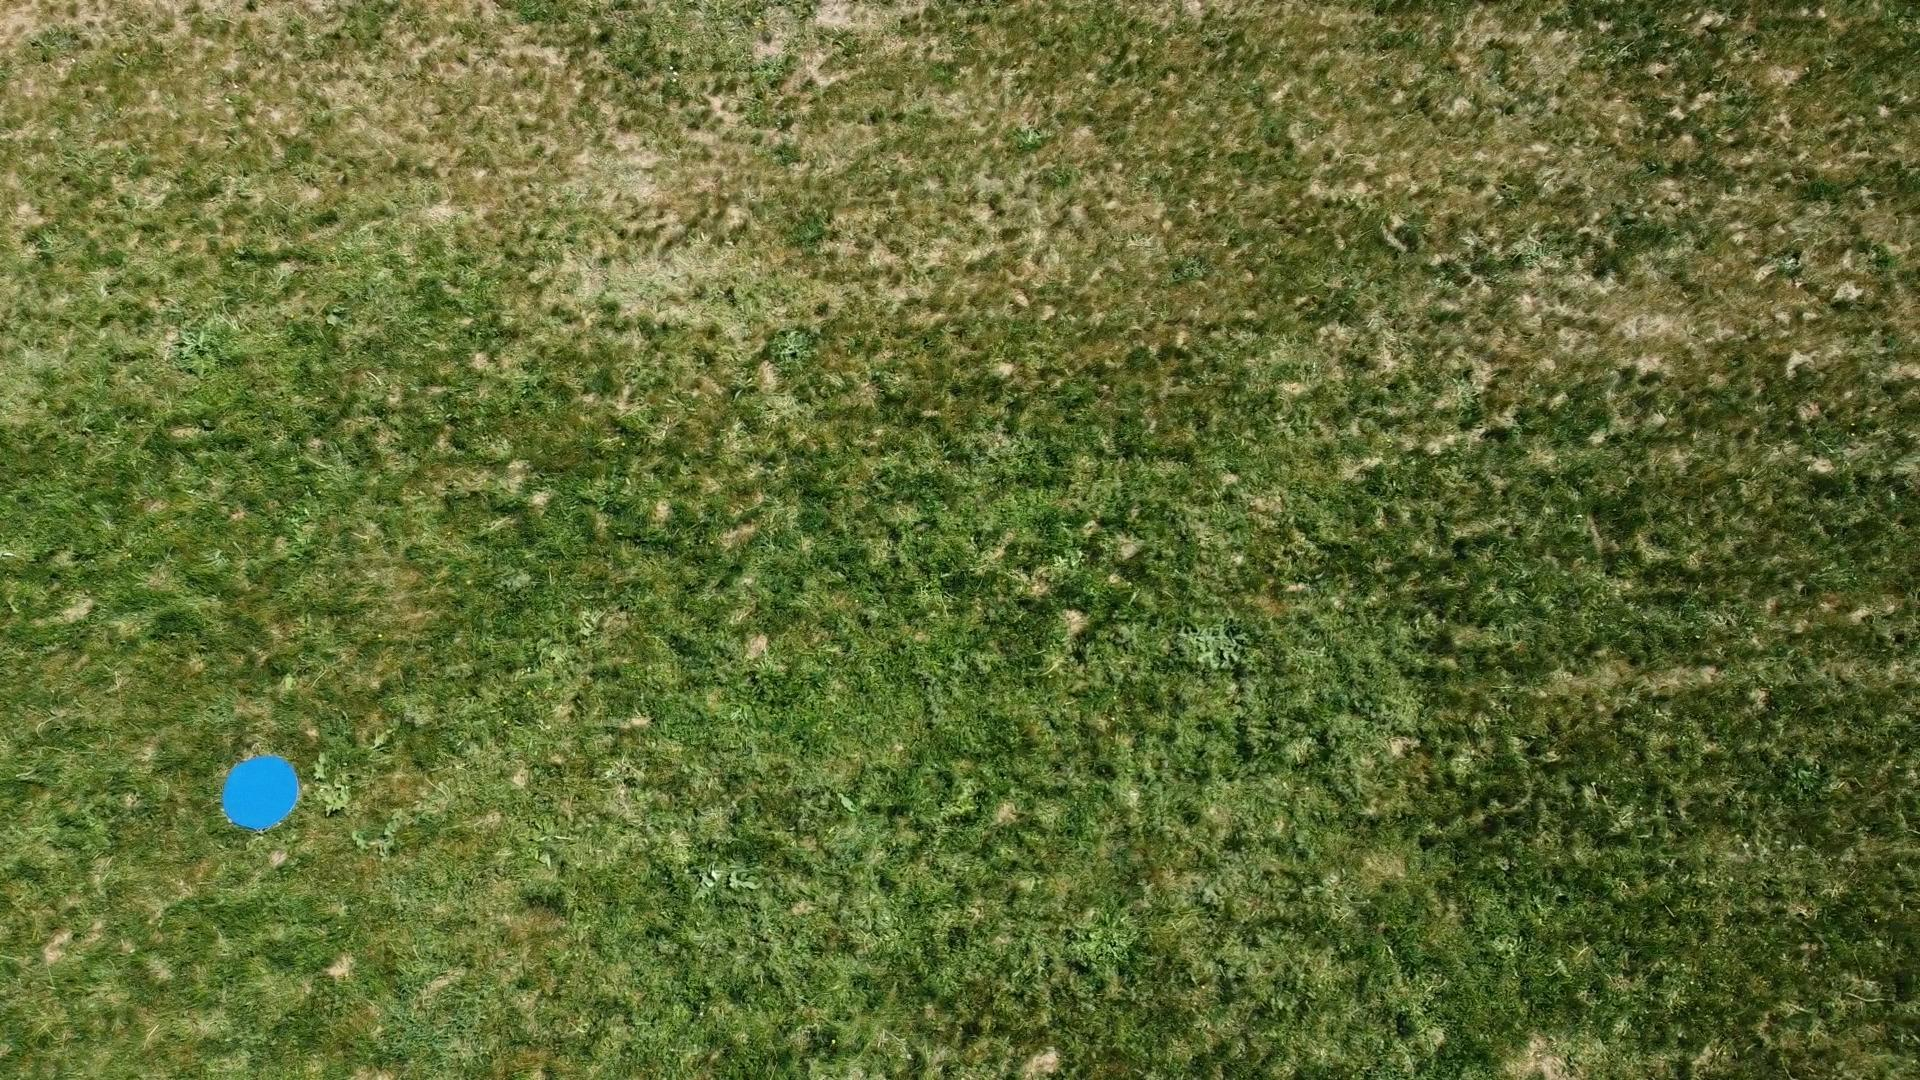Blue: (216, 753, 305, 835)
